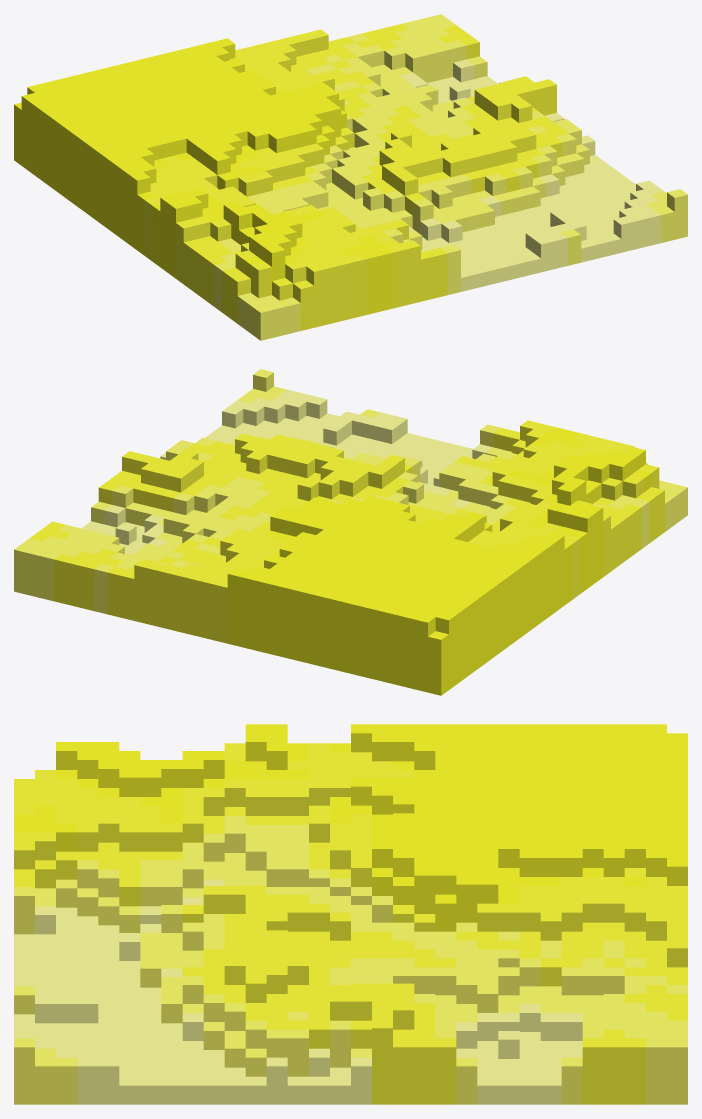
Rendered from Destert Map-4.obj.
3 views of the same model, one above another, from view 1: azimuth 30°, elevation 25°; view 2: azimuth 150°, elevation 25°; view 3: azimuth 270°, elevation 25° (orthographic). The views are drawn at different scales.
Bounding box in the file's own units: 3.2 × 0.5 × 3.2.
Materials: 1 (1 with a texture image).
